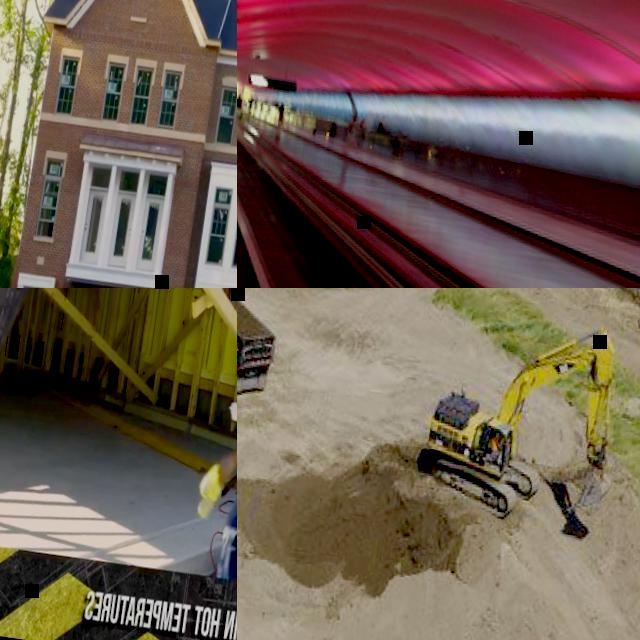machinery: (410, 299, 627, 532), (237, 288, 285, 401)
person: (204, 288, 237, 582), (488, 430, 502, 455)
vest: (487, 438, 499, 454)
